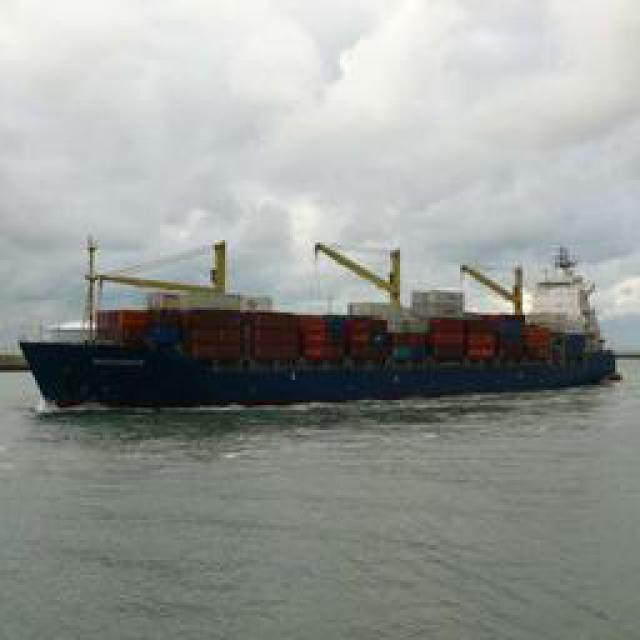Ship: (25, 246, 620, 414)
